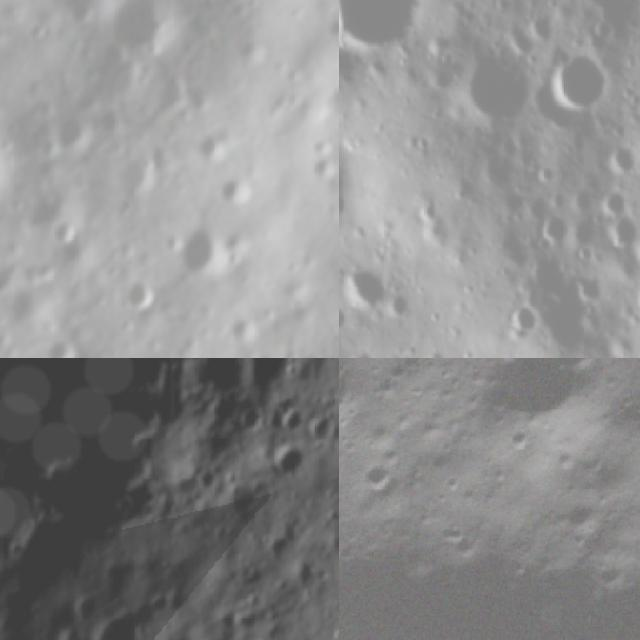crater: (463, 358, 612, 465), (459, 50, 534, 121), (339, 0, 429, 59), (162, 221, 236, 288), (79, 47, 150, 111), (99, 0, 180, 56), (551, 52, 617, 116), (339, 358, 383, 443), (348, 448, 404, 505), (209, 162, 265, 210), (78, 604, 150, 640), (339, 126, 364, 218), (266, 438, 318, 482), (186, 120, 238, 163), (118, 269, 160, 317), (288, 554, 330, 600), (342, 262, 385, 303), (232, 398, 268, 444), (46, 216, 88, 251), (504, 293, 537, 337), (36, 333, 85, 358), (536, 213, 566, 252), (607, 142, 640, 176), (521, 17, 555, 41), (600, 189, 630, 216), (391, 290, 411, 322), (613, 220, 634, 248), (344, 350, 375, 358), (339, 305, 349, 328)
